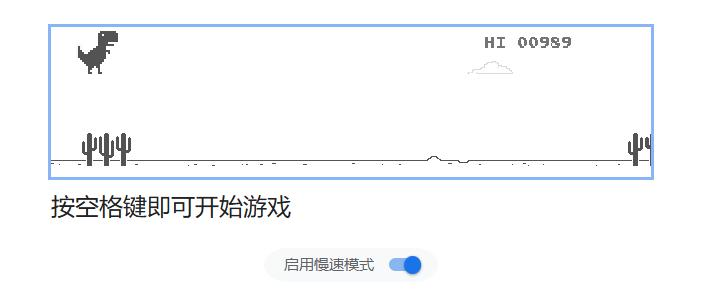cactus: (79, 132, 132, 168), (626, 134, 651, 169)
dino: (75, 29, 118, 75)
